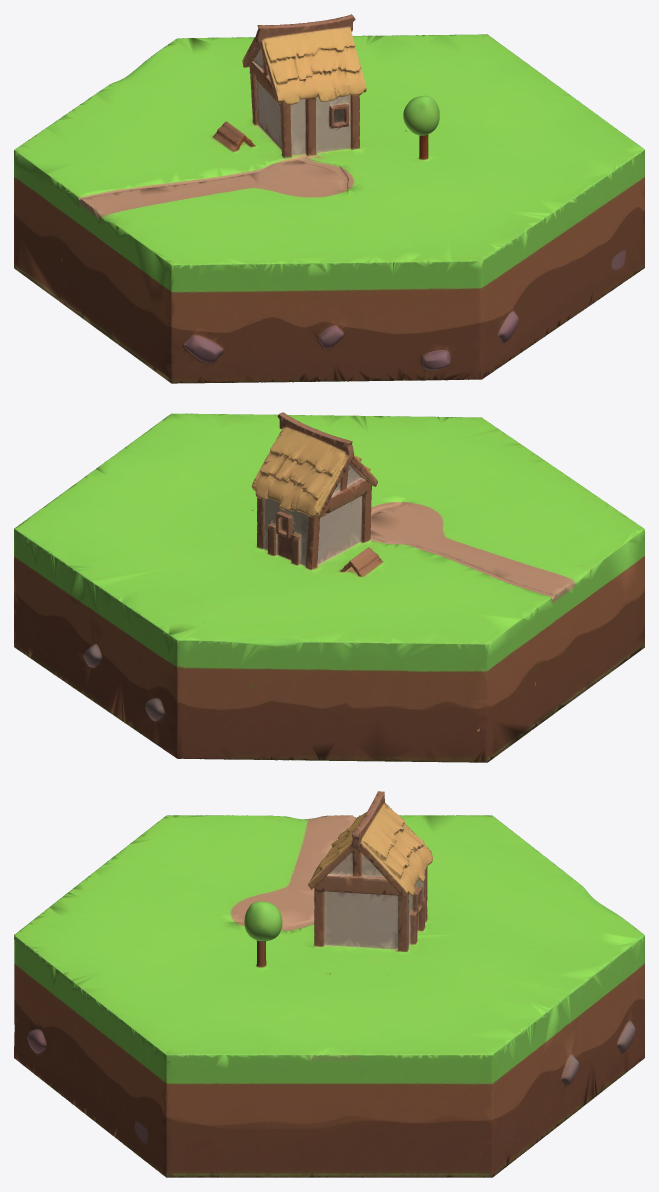
File: towntile_lv1.glb
The picture shows the model from 3 angles, top to bottom: view 1: azimuth 30°, elevation 25°; view 2: azimuth 150°, elevation 25°; view 3: azimuth 270°, elevation 25°; orthographic projection. The views are drawn at different scales.
Bounding box in the file's own units: 1.71 × 0.8081 × 1.9.
1 material, 1 textured.
